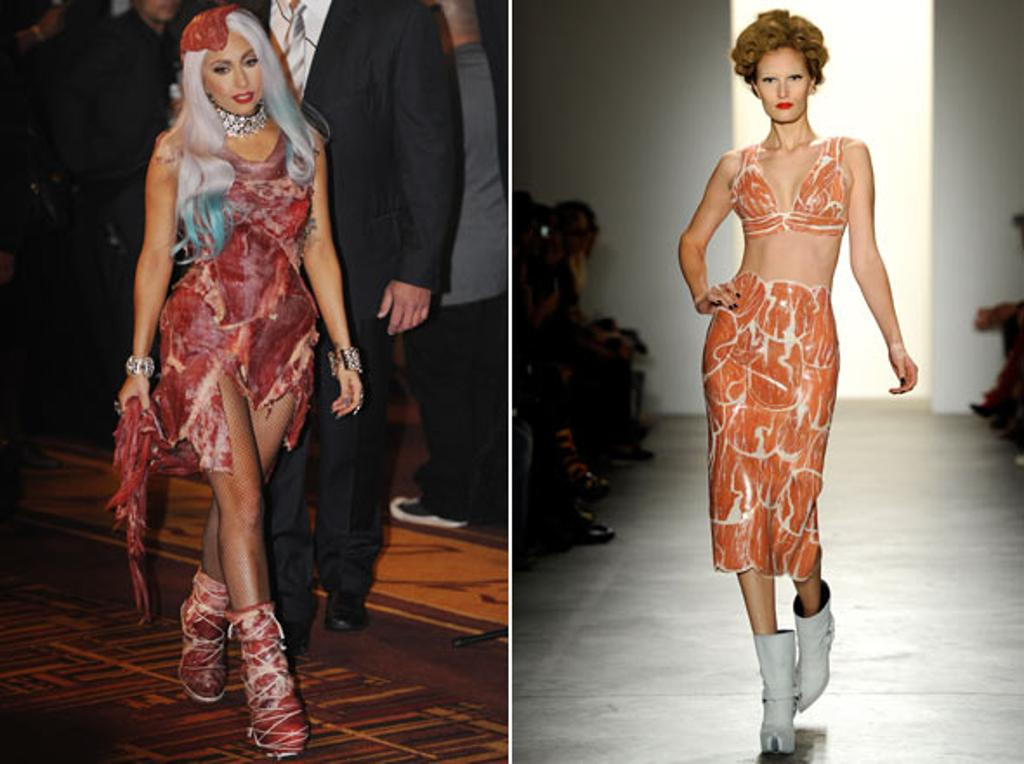face: (197, 39, 265, 112), (756, 55, 810, 121)
